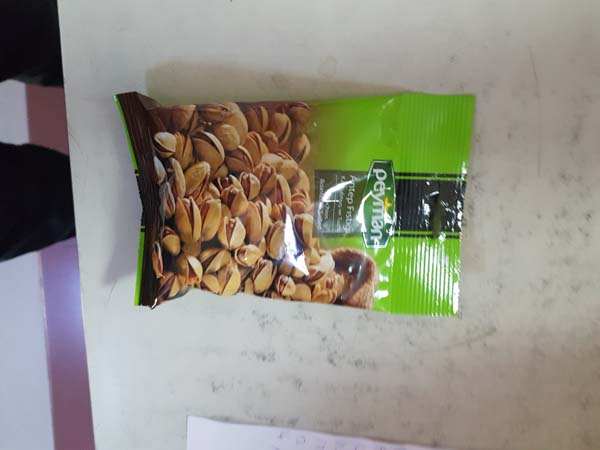antepfistigi: (96, 87, 480, 320)
